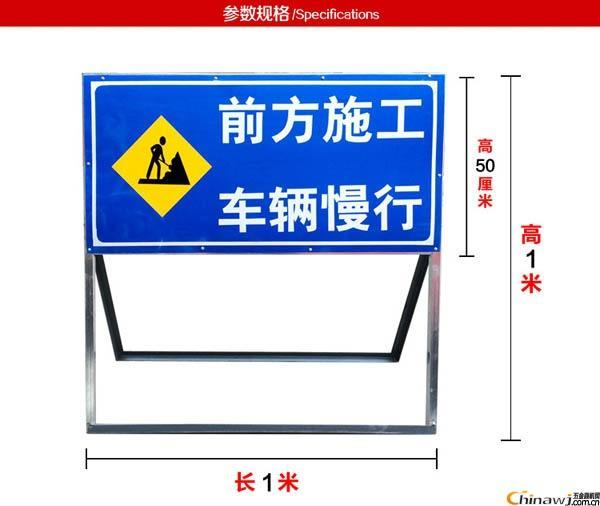sign: (86, 77, 439, 251)
